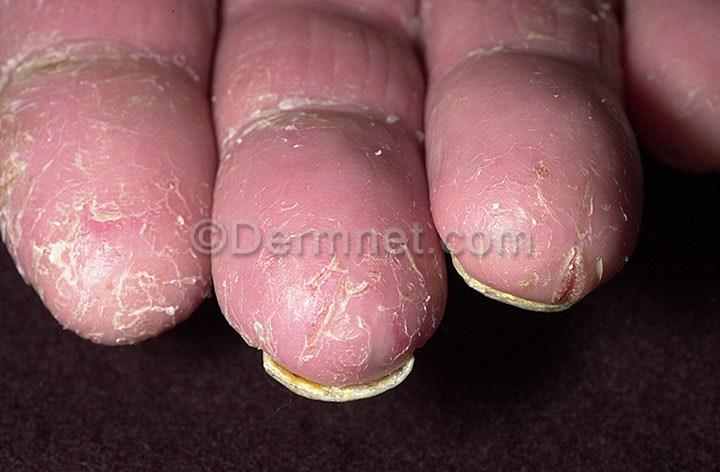Eczema: (279, 125, 374, 192), (59, 24, 134, 83), (261, 252, 327, 317), (280, 319, 371, 362), (3, 82, 87, 128), (416, 105, 477, 166), (79, 171, 159, 214), (145, 78, 203, 137), (471, 148, 529, 206), (310, 196, 381, 243), (574, 105, 632, 160), (477, 204, 536, 258), (219, 272, 296, 312), (217, 89, 311, 121), (443, 0, 499, 53), (139, 33, 206, 77), (24, 162, 82, 212), (317, 242, 381, 287), (578, 206, 634, 256), (141, 132, 196, 182), (518, 85, 578, 130), (517, 128, 577, 172), (314, 295, 381, 333), (488, 1, 536, 53), (7, 199, 78, 234), (634, 65, 690, 109), (86, 132, 143, 175), (214, 222, 261, 274), (531, 173, 583, 220), (232, 307, 288, 350), (532, 0, 582, 48), (25, 128, 91, 163), (668, 83, 718, 128), (448, 232, 492, 282), (376, 305, 435, 342), (9, 234, 78, 265), (78, 221, 149, 251), (583, 160, 636, 200), (91, 90, 142, 131), (491, 253, 532, 303), (310, 91, 376, 122), (434, 184, 476, 232), (88, 285, 140, 323), (223, 142, 270, 184), (478, 93, 513, 148), (388, 241, 448, 273), (222, 20, 286, 50), (219, 184, 271, 220), (219, 68, 287, 95), (383, 136, 426, 178), (39, 267, 84, 307), (161, 182, 215, 215), (0, 131, 26, 198), (264, 216, 311, 253), (390, 270, 441, 304), (380, 99, 423, 139), (590, 38, 617, 101), (213, 123, 278, 149), (384, 218, 440, 248), (155, 218, 201, 253), (274, 171, 308, 218), (378, 184, 426, 217), (425, 63, 483, 90), (282, 353, 334, 383), (218, 46, 282, 70), (528, 269, 572, 303), (540, 220, 575, 262), (579, 2, 620, 35), (4, 7, 46, 39), (131, 8, 179, 36), (7, 45, 52, 74), (76, 323, 141, 343), (368, 348, 412, 376), (236, 0, 291, 22), (575, 252, 607, 288), (143, 287, 184, 315), (429, 165, 478, 188), (176, 255, 209, 287), (429, 88, 481, 108), (327, 366, 365, 387), (57, 312, 92, 330), (148, 316, 169, 329)
